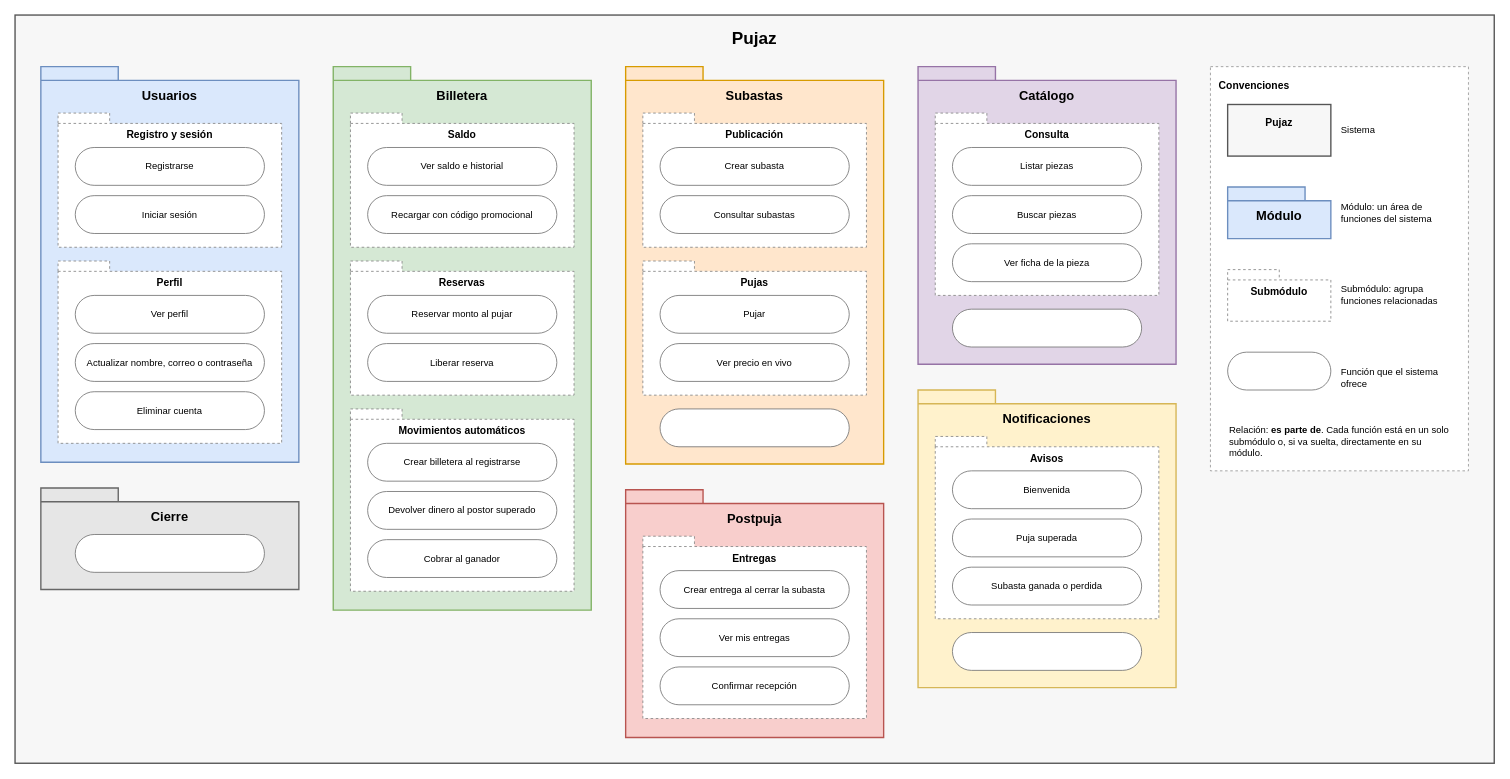
Some shapes in this 1510 by 779 pixel diagram are drawn without their labels. Here are the shapes that lost their labels. From the top down, the centre of each, then its label:
At (1047,327): "Publicar pieza".
At (1279,370): "Función".
At (754,427): "Cerrar subastas vencidas".
At (169,553): "Revisar periódicamente las subastas vencidas".
At (1047,651): "Ver mis notificaciones".
